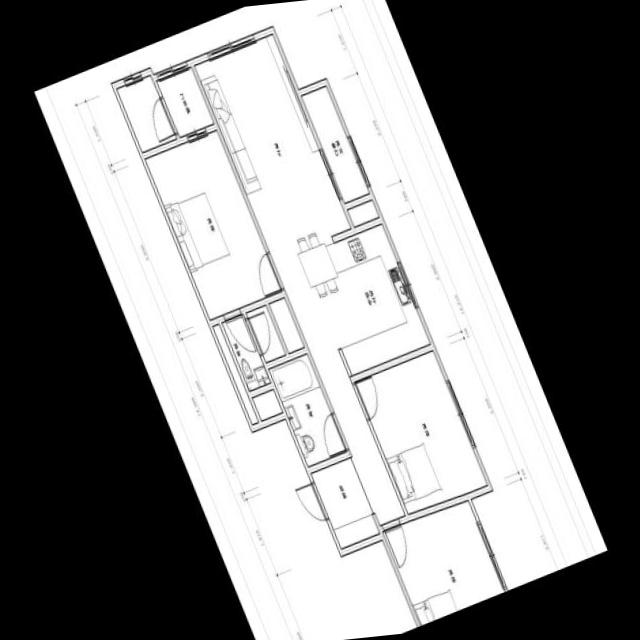background: (33, 0, 607, 640)
space_balconi: (155, 66, 213, 135)
space_bedroom: (144, 129, 281, 318), (354, 350, 486, 513), (382, 499, 504, 625)
space_front: (310, 456, 379, 547)
space_kitchen: (291, 222, 429, 373)
space_living_room: (193, 33, 404, 523)
space_other: (300, 85, 368, 201), (116, 74, 176, 151), (212, 323, 257, 423), (268, 296, 303, 352), (252, 388, 281, 419), (346, 199, 378, 225)
space_toilet: (268, 352, 345, 465), (221, 304, 284, 389)
